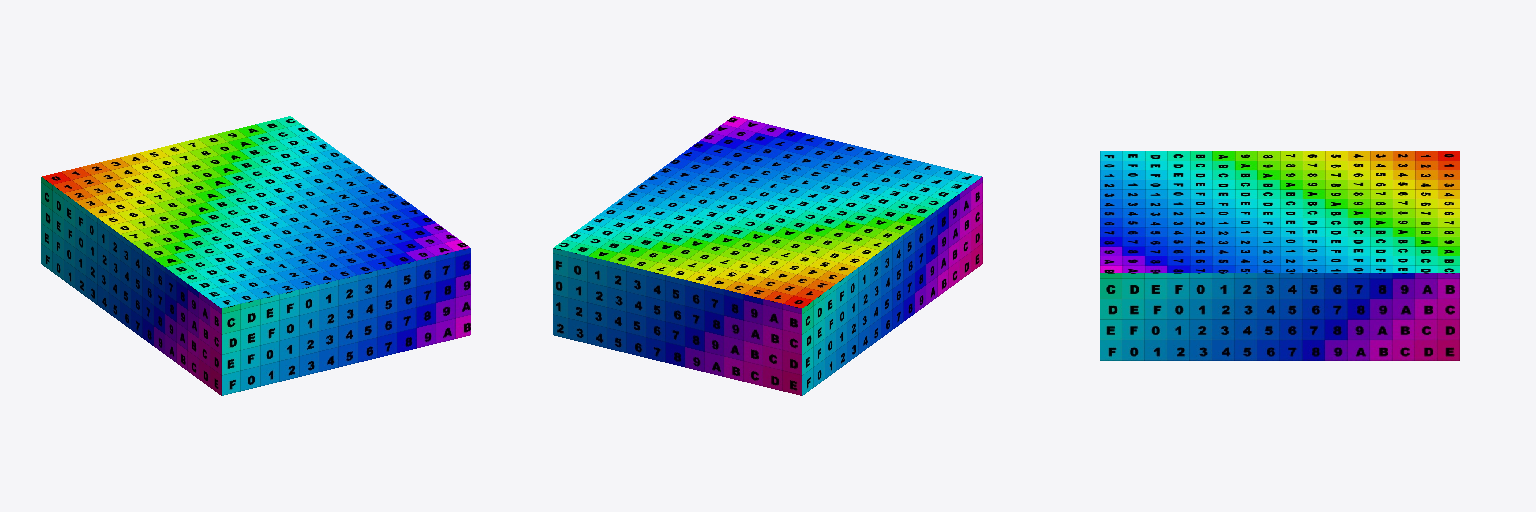
3 renders of one model, left to right at view 1: azimuth 30°, elevation 25°; view 2: azimuth 150°, elevation 25°; view 3: azimuth 270°, elevation 25°, orthographic.
Visible parts, largest first — view 1: selected_faces; view 2: selected_faces; view 3: selected_faces.
Boxes of the visible parts, x1,y1,x2,y2 form: selected_faces: [41, 116, 470, 395]; selected_faces: [553, 116, 982, 395]; selected_faces: [1100, 151, 1459, 360].
Size of the model in its own units: 128 by 43.06 by 160.
1 materials, 1 textured.